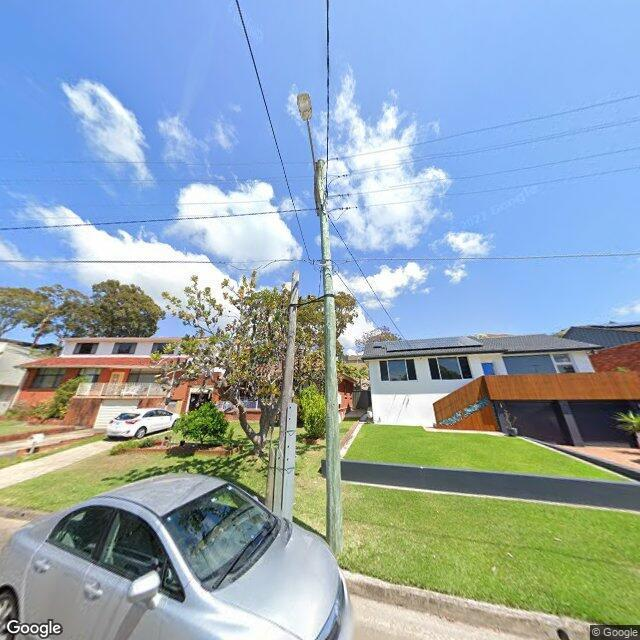crossarm: (313, 162, 324, 216)
streetlight: (296, 90, 324, 212)
timber-pole: (317, 160, 343, 556), (268, 268, 300, 514)
